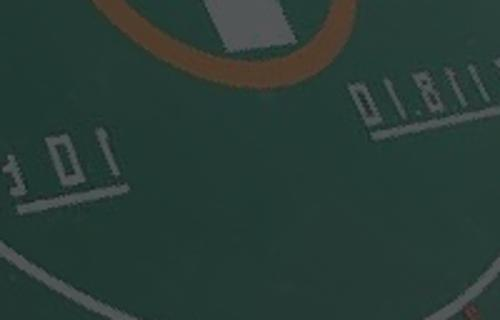Apron: (92, 1, 360, 104)
